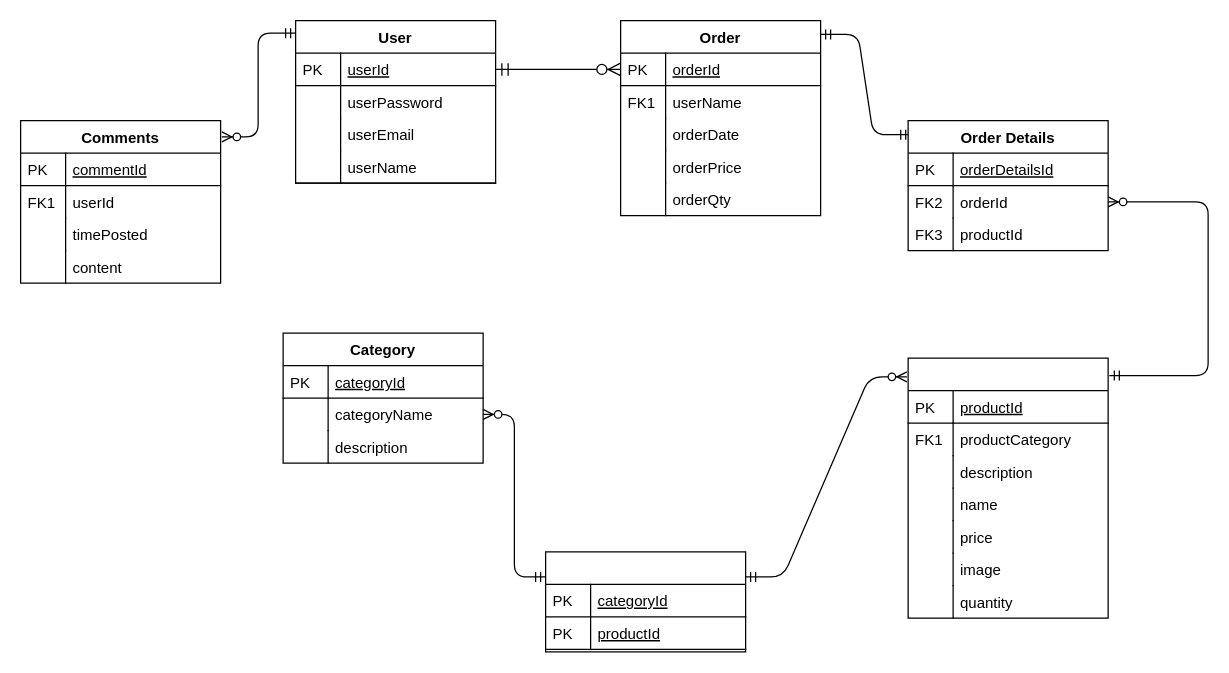
This 1229x673 diagram has some shape labels left out. The shapes that lost their labels are listed below. From the top down, each one's box as (x1, y1, x2, y2) in pixels, then its label:
(907, 357, 1108, 618): Products
(544, 551, 746, 652): Product Category
